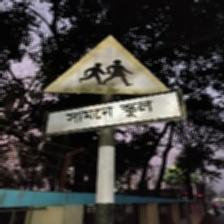School-in-front: (41, 33, 182, 138)
